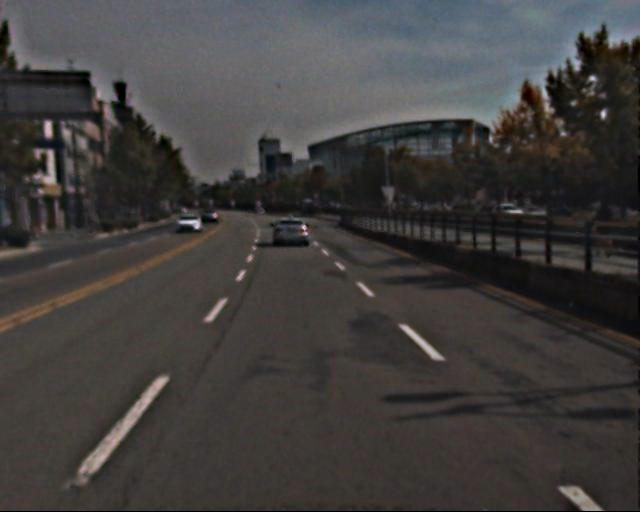person: (586, 199, 616, 259)
